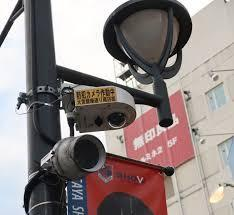maru: (68, 83, 147, 137)
